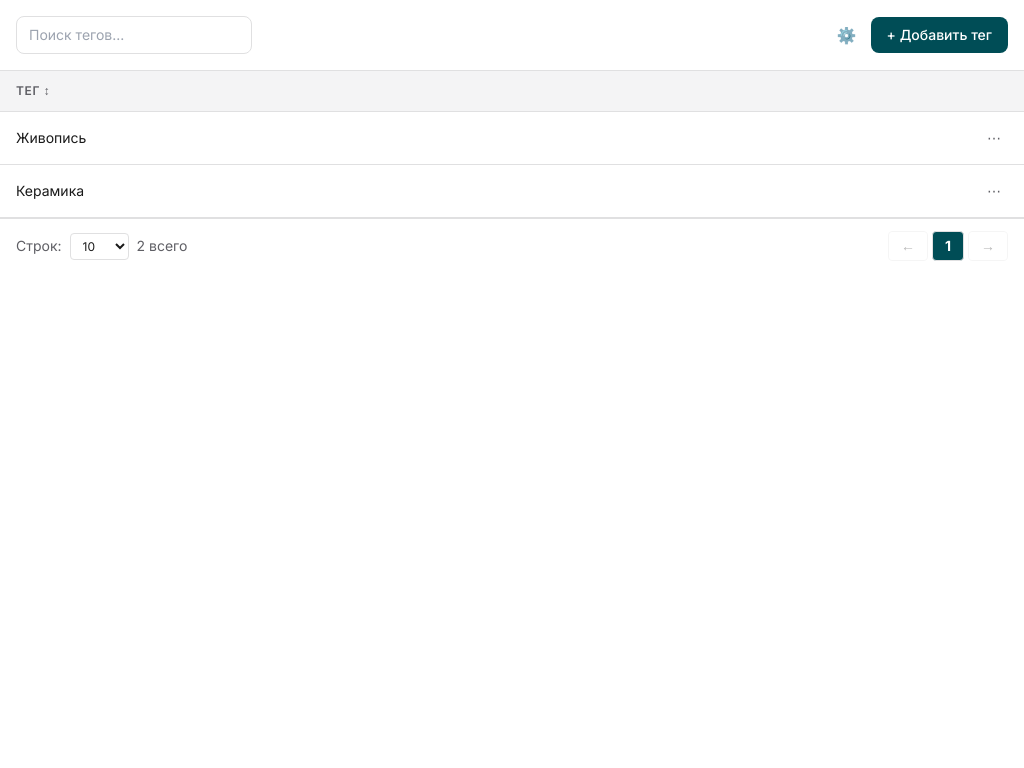
Test: TagsTable delete flow — full pipeline (GH #318 D5) › clean tag: «Удалить» → row gone + ring toast «Удалено. Отменить»; «Отменить» → row back, no DELETE
expect the text "Живопись" is shown: met, box x1=0 y1=112 x2=964 y2=164
Click the button named "Действия" at (994,138), box x1=980 y1=124 x2=1008 y2=152
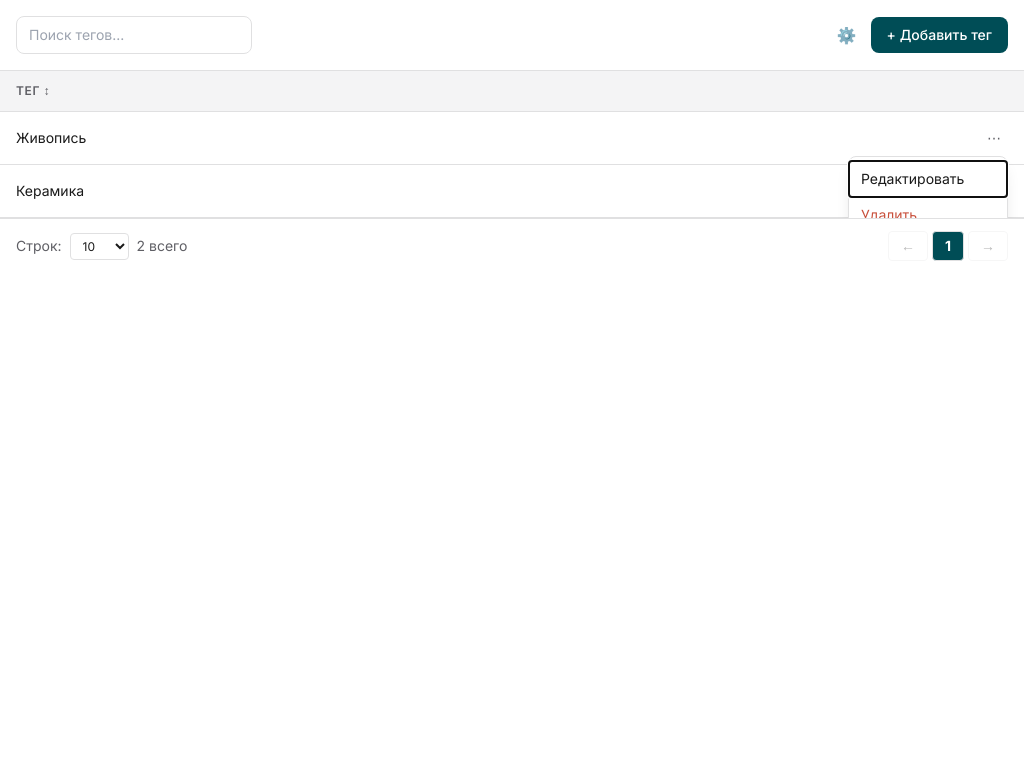
Click the menu item "Удалить" at (928,215), box x1=849 y1=197 x2=1007 y2=233
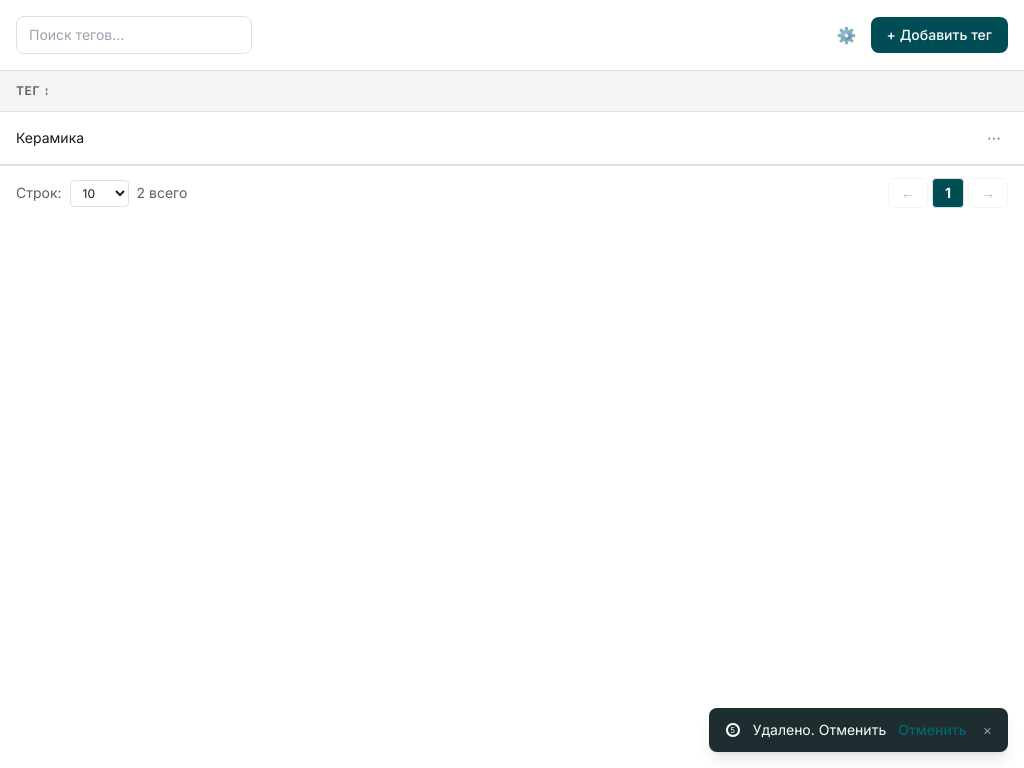
expect the row with test id "tag-row-t-1" is gone: met
expect the text "Удалено. Отменить" is shown: met, box x1=753 y1=720 x2=886 y2=740
expect the element with test id "toast-countdown" is shown: met, box x1=725 y1=722 x2=741 y2=738
Click the button "Отменить" at (932,730), box x1=898 y1=720 x2=967 y2=740
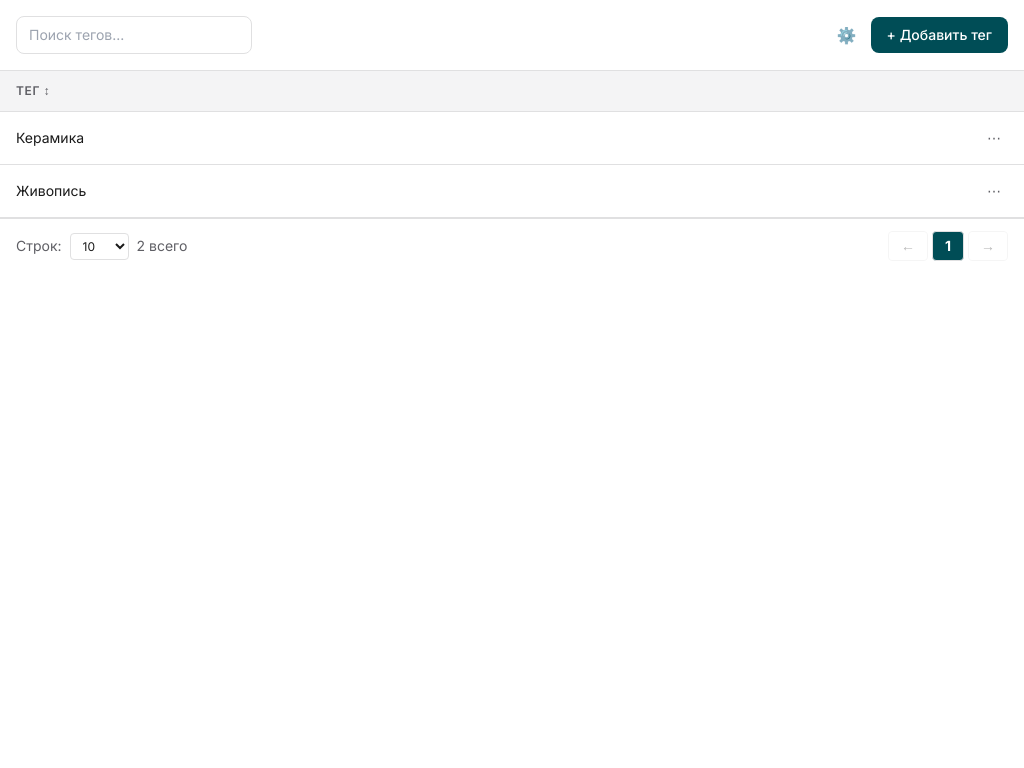
expect the row with test id "tag-row-t-1" is shown: met, box x1=0 y1=164 x2=1023 y2=218
